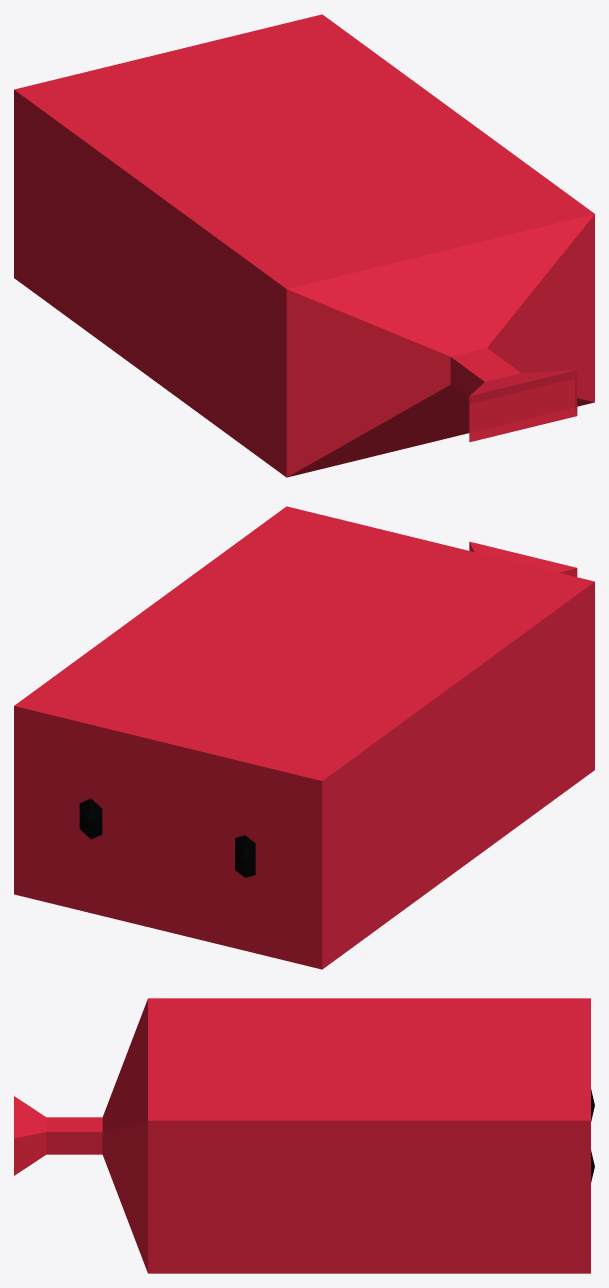
Rendered from brickFish.fbx.
3 views of the same model, one above another, from view 1: azimuth 30°, elevation 25°; view 2: azimuth 150°, elevation 25°; view 3: azimuth 270°, elevation 25° (orthographic). The views are drawn at different scales.
Parts seen in each view (by area): view 1: brickFish; view 2: brickFish; view 3: brickFish.
Part boxes in pixels (x1=…): brickFish: x1=14, y1=14, x2=594, y2=477; brickFish: x1=14, y1=506, x2=594, y2=969; brickFish: x1=14, y1=998, x2=594, y2=1273.
Bounding box in the file's own units: 1309 × 765 × 2630.
